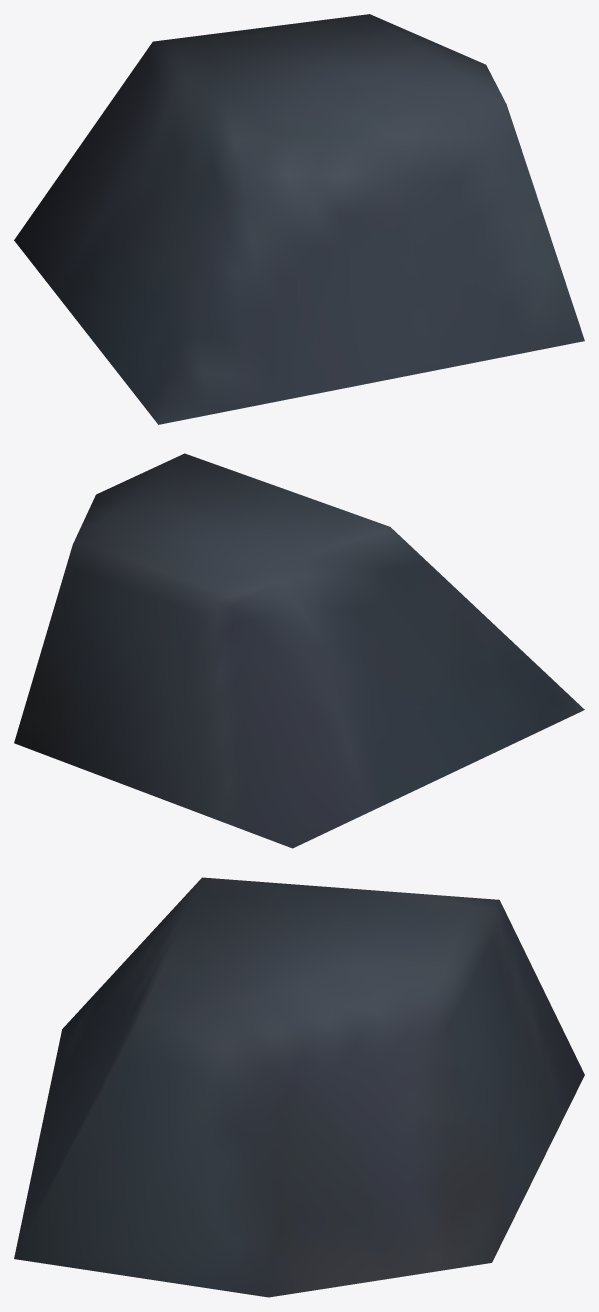
The model's file is Area_07_27.fbx.
The picture shows the model from 3 angles, top to bottom: view 1: azimuth 30°, elevation 25°; view 2: azimuth 150°, elevation 25°; view 3: azimuth 270°, elevation 25°; orthographic projection. The views are drawn at different scales.
Parts seen in each view (by area): view 1: Area_07_27; view 2: Area_07_27; view 3: Area_07_27.
Boxes of the visible parts, x1,y1,x2,y2 form: Area_07_27: (14, 14, 584, 424); Area_07_27: (14, 453, 584, 848); Area_07_27: (14, 877, 584, 1297).
Size of the model in its own units: 62.59 by 25.34 by 56.29.
